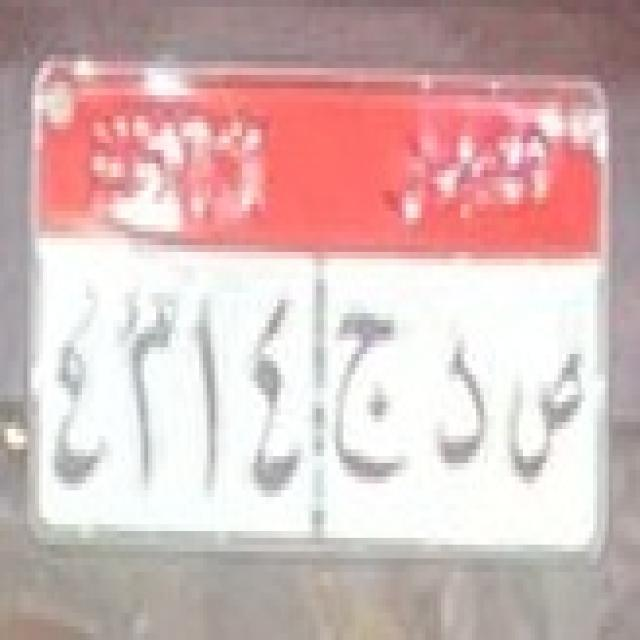1: (186, 288, 231, 502)
3: (116, 280, 182, 497)
4: (48, 281, 111, 503), (242, 292, 305, 506)
Saad: (498, 319, 595, 502)
daal: (432, 313, 494, 487)
geem: (325, 304, 419, 494)
